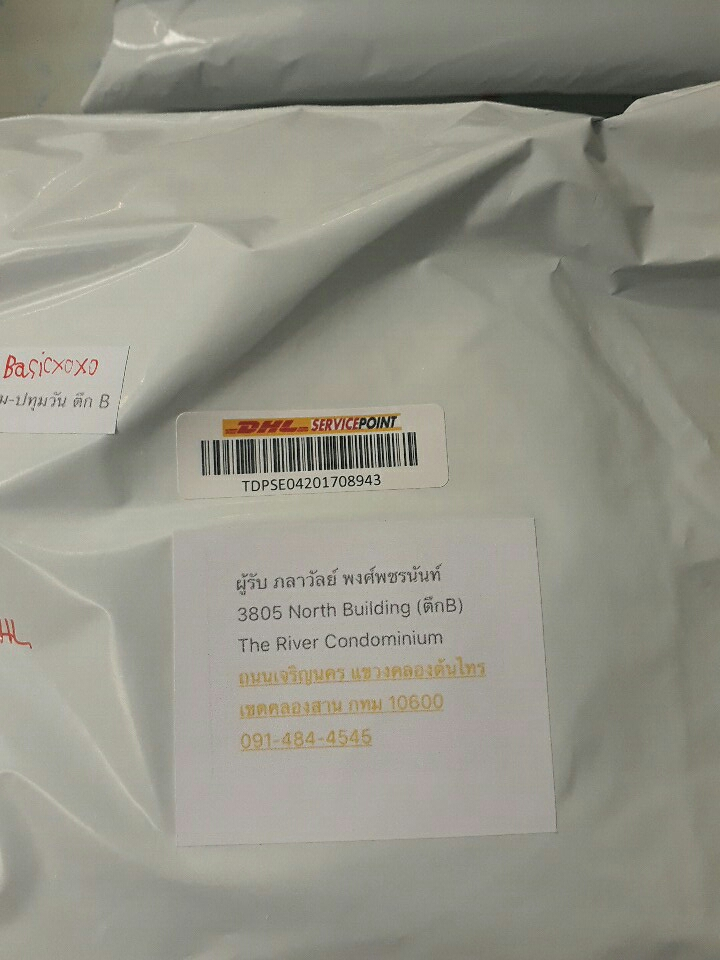ba: (168, 395, 462, 507)
txt: (229, 559, 495, 782)
